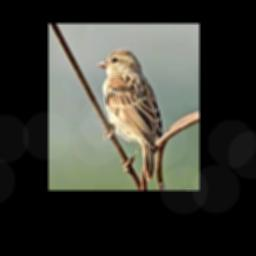Sparrow: (96, 48, 162, 181)
